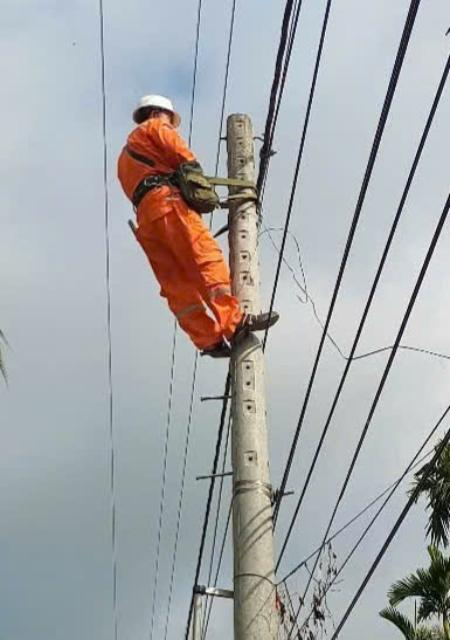harness: (124, 160, 217, 217)
helmet: (126, 90, 187, 128)
shoes: (224, 300, 283, 346), (192, 337, 241, 366)
